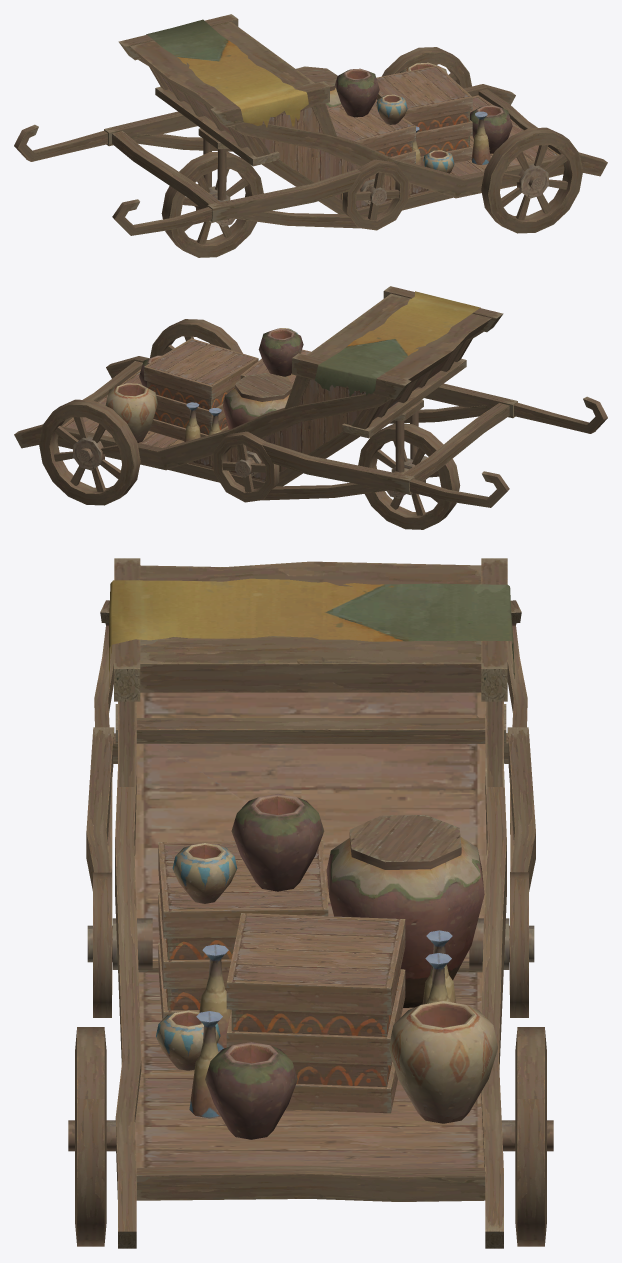
The model's file is Homeworld_Exterior_Xm_Thing_Prop_Huoche_01_Lod0.fbx.
3 renders of one model, top to bottom at view 1: azimuth 30°, elevation 25°; view 2: azimuth 150°, elevation 25°; view 3: azimuth 270°, elevation 25°, orthographic. The views are drawn at different scales.
Parts seen in each view (by area): view 1: Area_Xm_Prop_CWSM_Huoche_01_Lod0; view 2: Area_Xm_Prop_CWSM_Huoche_01_Lod0; view 3: Area_Xm_Prop_CWSM_Huoche_01_Lod0.
Part boxes in pixels (left/top/right/bottom): Area_Xm_Prop_CWSM_Huoche_01_Lod0: left=14, top=14, right=607, bottom=257; Area_Xm_Prop_CWSM_Huoche_01_Lod0: left=14, top=286, right=607, bottom=529; Area_Xm_Prop_CWSM_Huoche_01_Lod0: left=68, top=558, right=553, bottom=1248.
Bounding box in the file's own units: 7.31 × 2.66 × 3.1.
